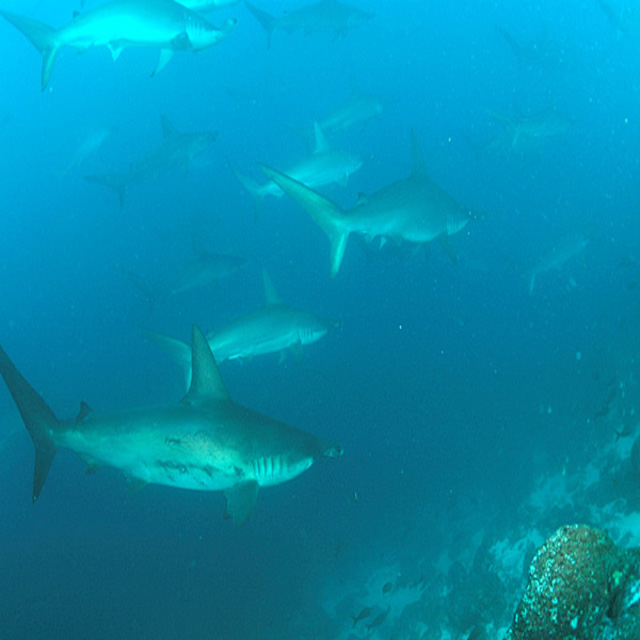hammerhead: (135, 353, 367, 487), (378, 171, 500, 235), (237, 279, 341, 345), (311, 142, 399, 199), (163, 11, 231, 61)
